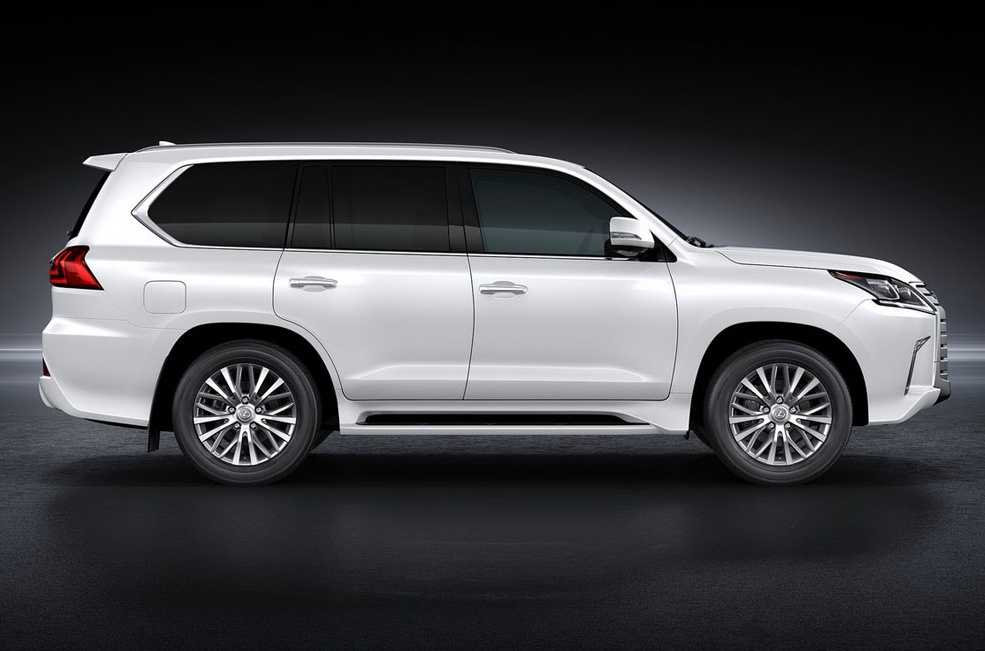pickup: (37, 130, 953, 484)
